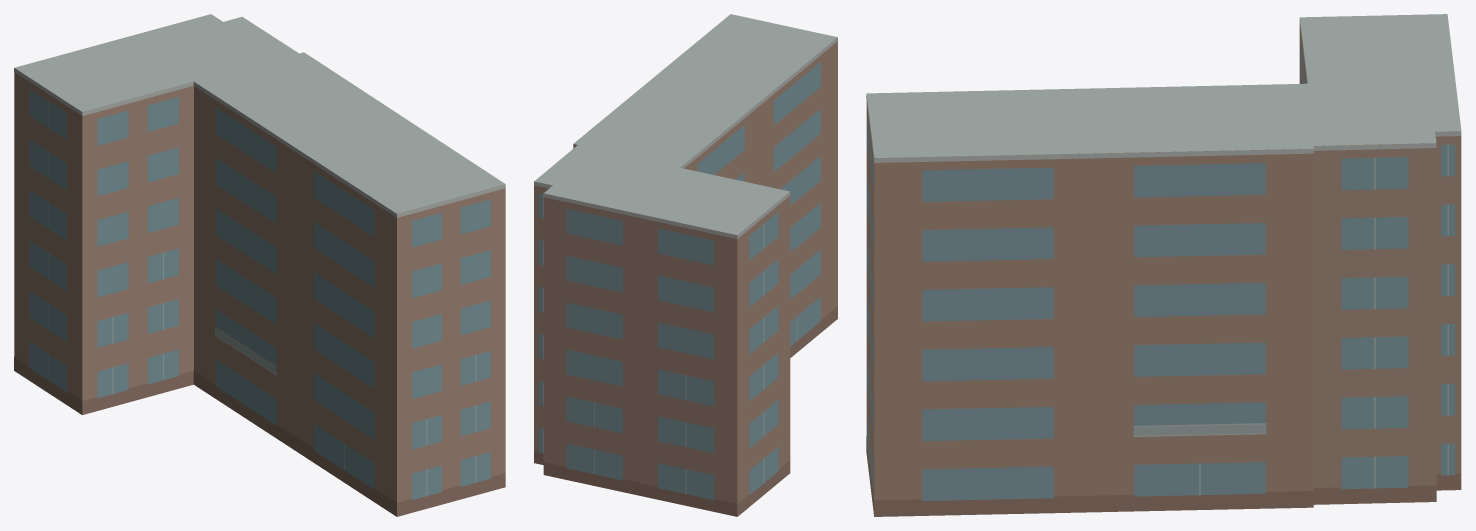
File: survey-upis-32747028.glb
3 views of the same model, side by side, from view 1: azimuth 30°, elevation 25°; view 2: azimuth 150°, elevation 25°; view 3: azimuth 270°, elevation 25° (orthographic). The views are drawn at different scales.
Parts seen in each view (by area): view 1: survey-upis-32747028.tmp; view 2: survey-upis-32747028.tmp; view 3: survey-upis-32747028.tmp.
Part boxes in pixels (x1,y1,x2,y2): survey-upis-32747028.tmp: (14,14,505,516); survey-upis-32747028.tmp: (534,14,837,516); survey-upis-32747028.tmp: (866,14,1461,516).
Size of the model in its own units: 15.43 by 17.9 by 26.91.
